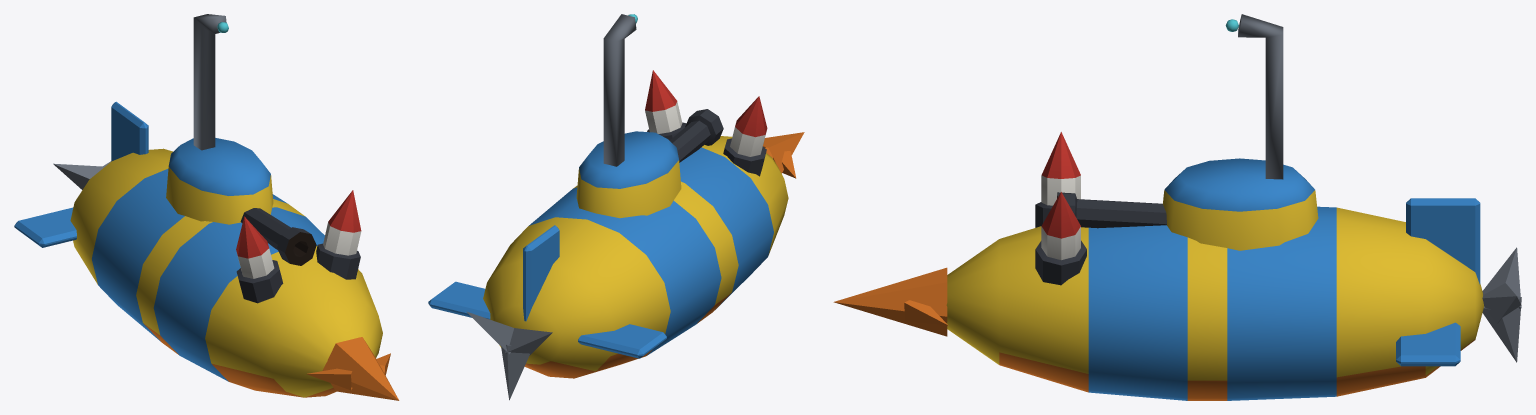
3 renders of one model, left to right at view 1: azimuth 30°, elevation 25°; view 2: azimuth 150°, elevation 25°; view 3: azimuth 270°, elevation 25°, orthographic. The views are drawn at different scales.
Visible parts, largest first — view 1: submarino_0_base, submarino_1_torreta; view 2: submarino_0_base, submarino_1_torreta; view 3: submarino_0_base, submarino_1_torreta.
Boxes of the visible parts, x1,y1,x2,y2 form: submarino_0_base: (14, 101, 399, 400); submarino_1_torreta: (166, 14, 316, 265); submarino_0_base: (428, 70, 804, 400); submarino_1_torreta: (576, 14, 723, 218); submarino_0_base: (833, 132, 1521, 400); submarino_1_torreta: (1057, 14, 1318, 250).
Bounding box in the file's own units: 0.58 × 0.8253 × 1.39.
